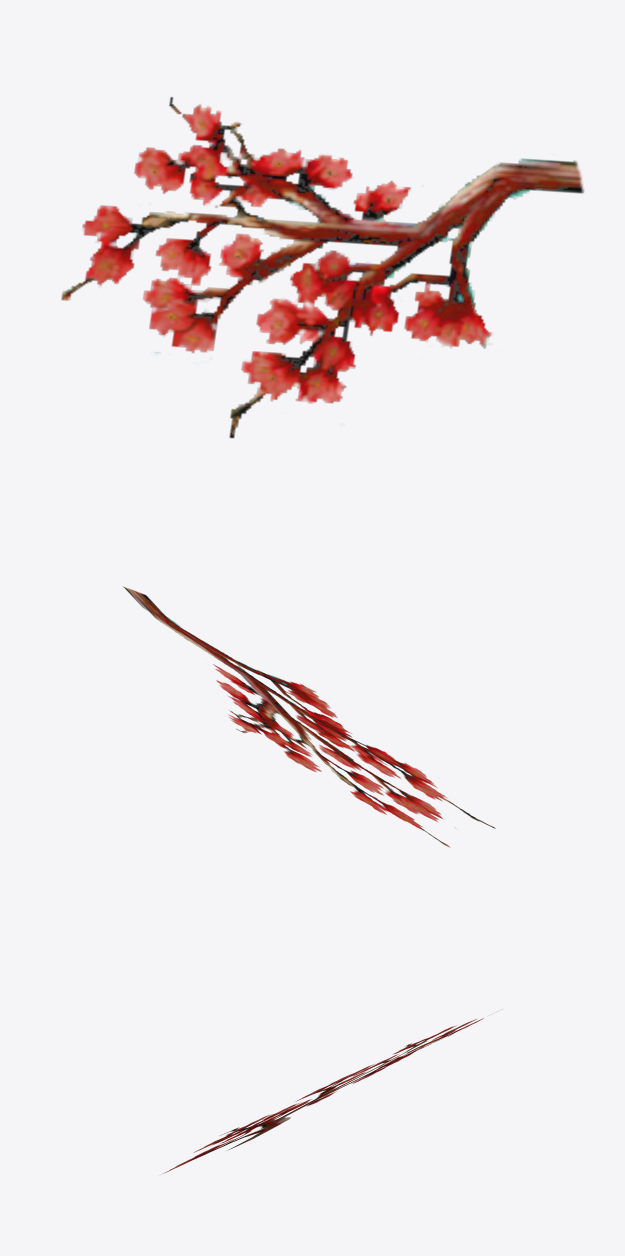
The model's file is H1_RPl_Cherry2.gltf.
3 renders of one model, top to bottom at view 1: azimuth 30°, elevation 25°; view 2: azimuth 150°, elevation 25°; view 3: azimuth 270°, elevation 25°, orthographic. The views are drawn at different scales.
Visible parts, largest first — view 1: H1_RPl_Cherry2; view 2: H1_RPl_Cherry2; view 3: H1_RPl_Cherry2.
Boxes of the visible parts, <box> form: H1_RPl_Cherry2: <box>61,97,583,438</box>; H1_RPl_Cherry2: <box>122,586,495,847</box>; H1_RPl_Cherry2: <box>161,1014,491,1174</box>.
Size of the model in its own units: 1.44 by 0.6078 by 1.41.
Materials: 1 (1 with a texture image).
